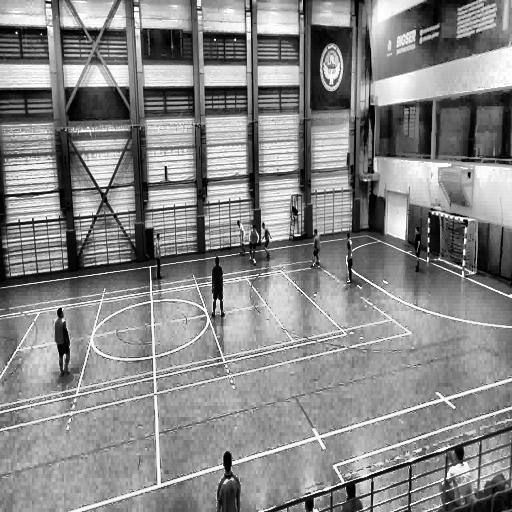ball: (253, 260, 256, 266)
player: (53, 305, 72, 376), (210, 255, 225, 315), (248, 226, 259, 264), (346, 232, 354, 282), (260, 222, 270, 259), (237, 220, 246, 257), (414, 227, 421, 273), (155, 233, 162, 279), (312, 229, 320, 267)
